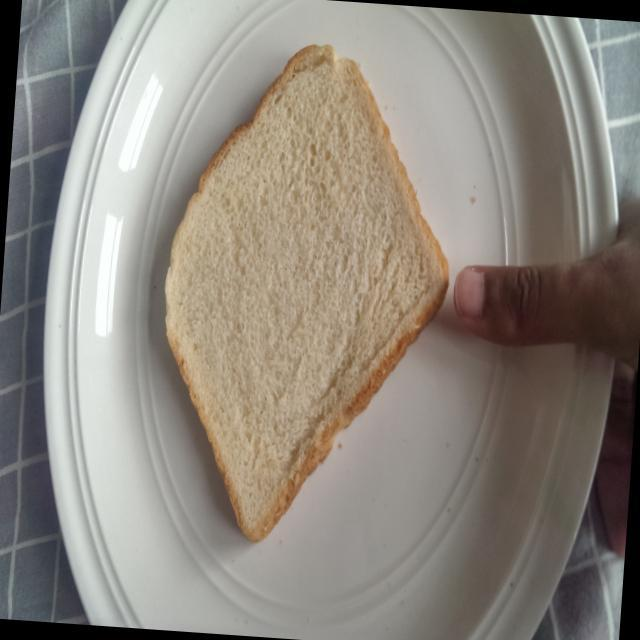Bread: (126, 24, 470, 568)
Finger: (443, 246, 552, 357)
